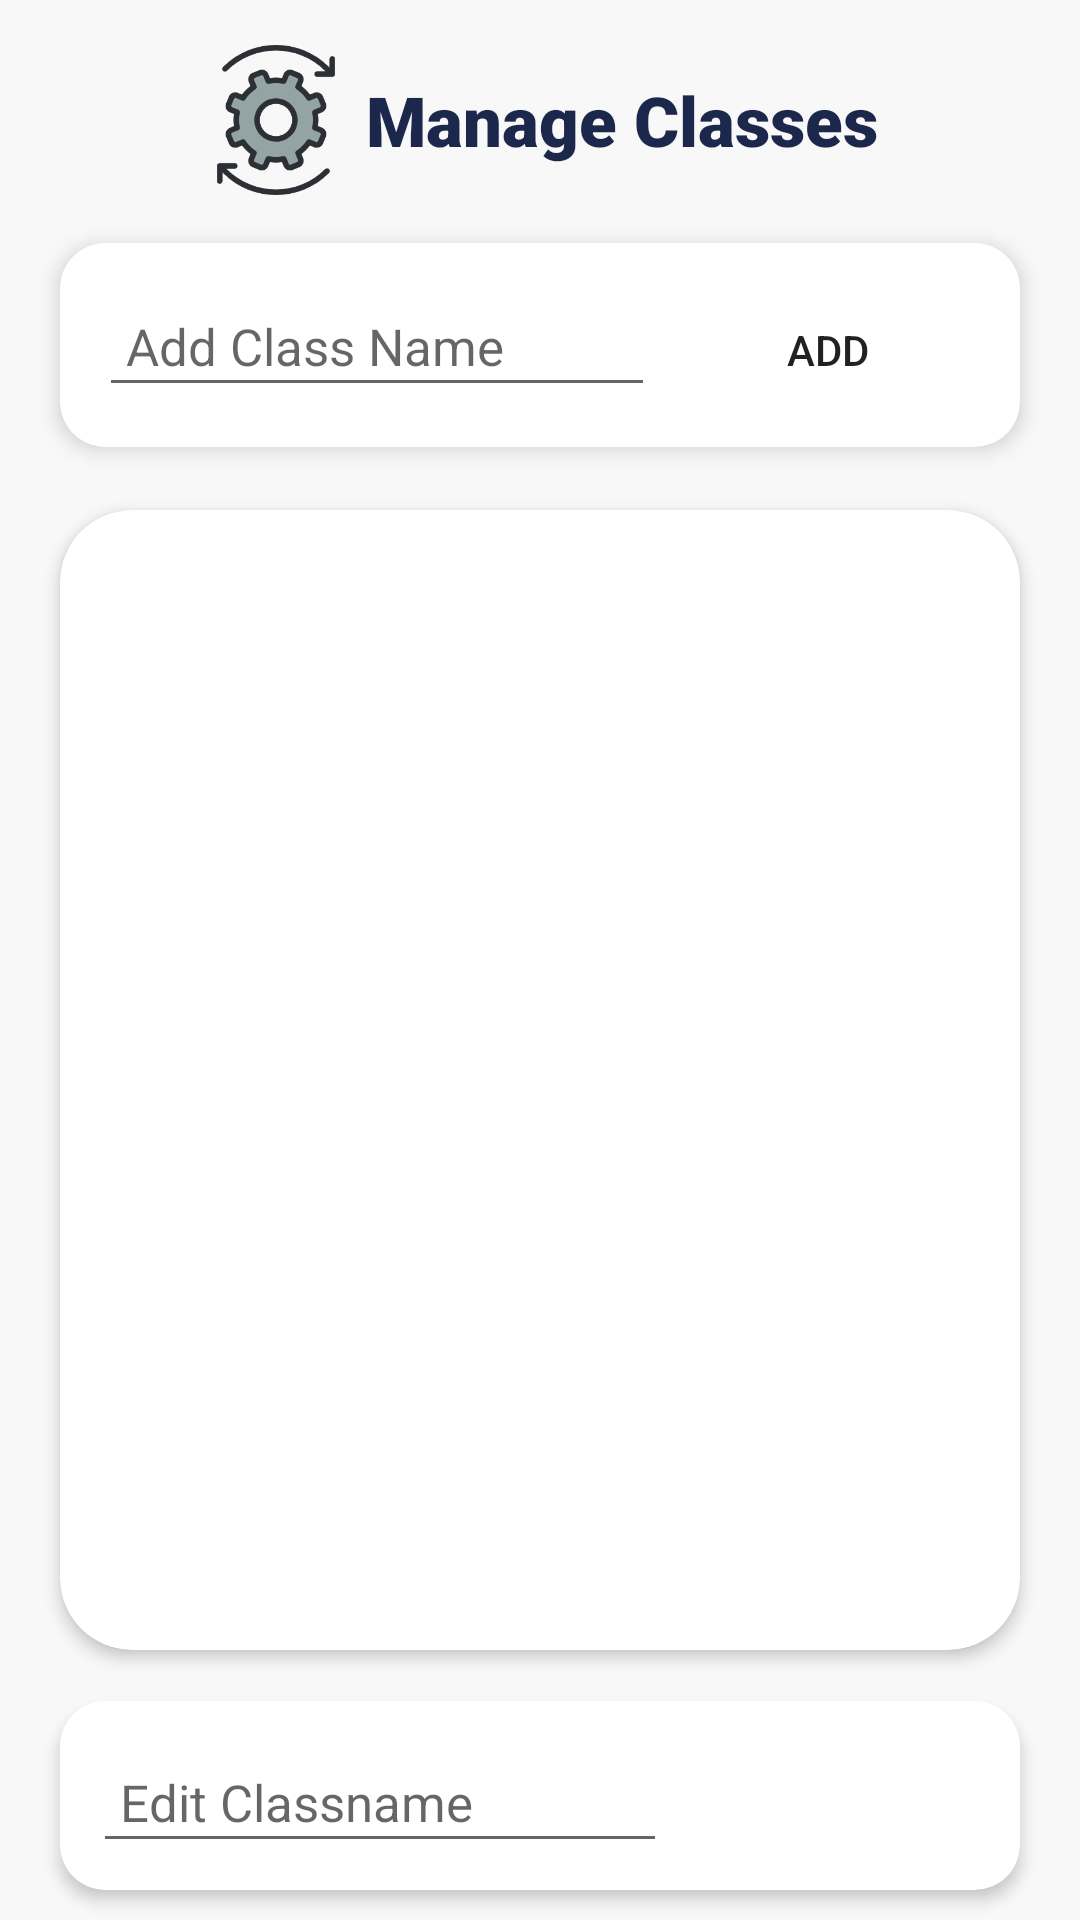

Locate icon controls on the screen. Image size 1080w x 1920h, boxes as (x1, y1, x2, y2).
manageclassicon: (217, 45, 335, 195)
